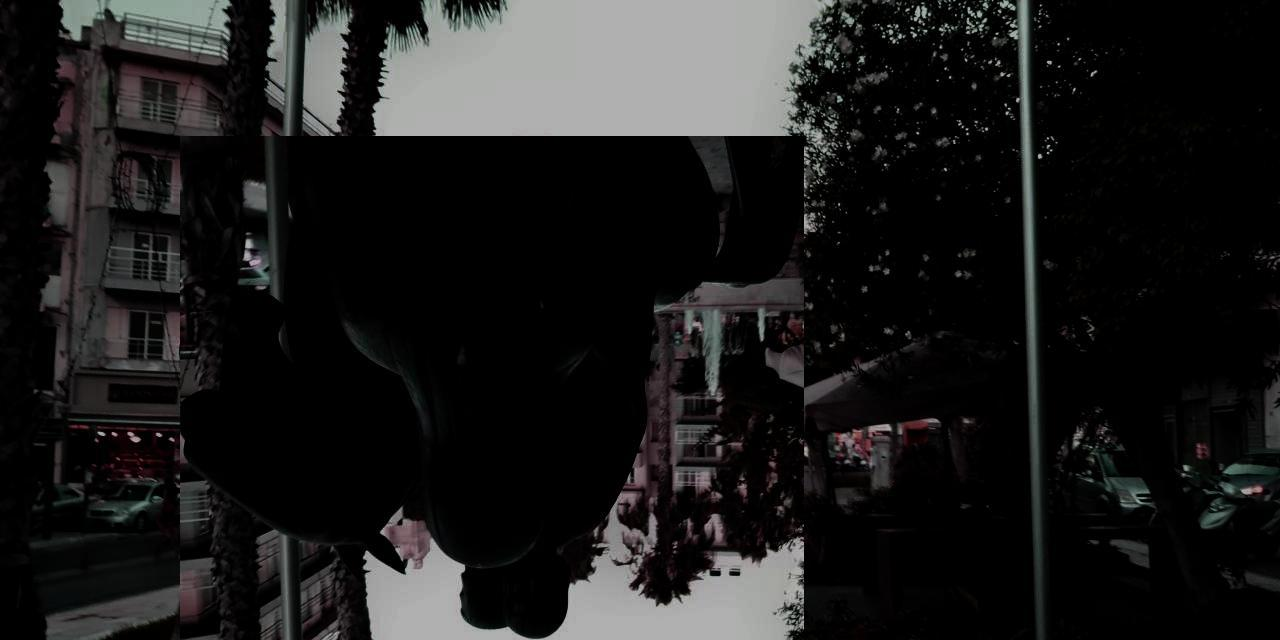Aretousa: (181, 137, 805, 640)
